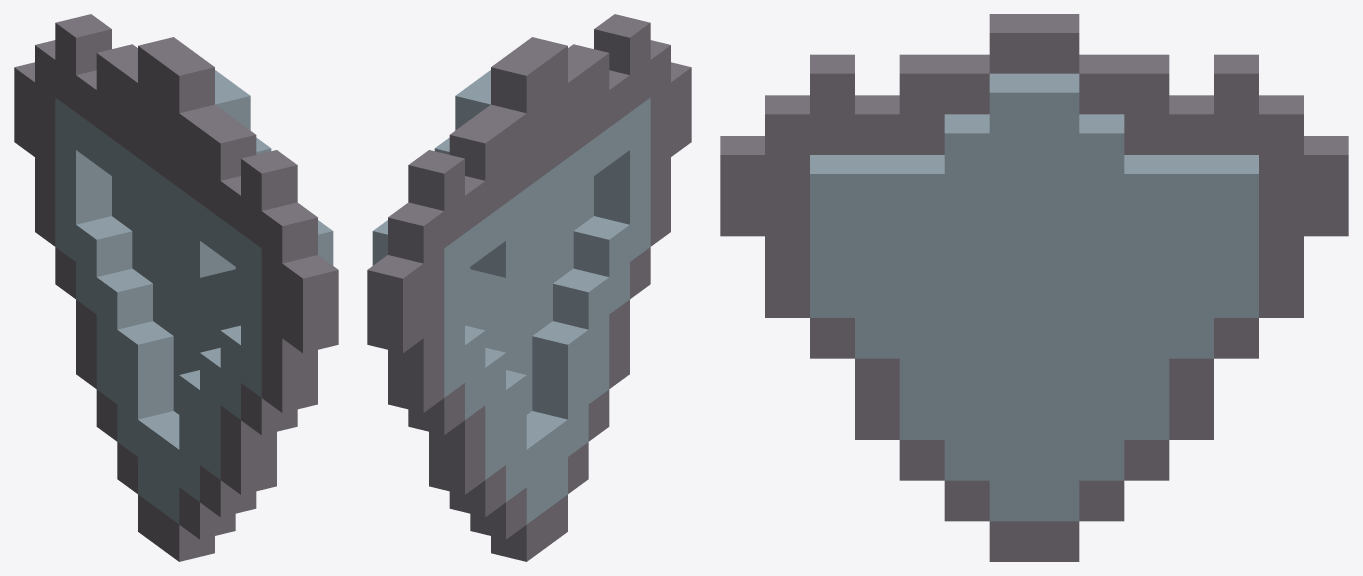
Rendered from BuffShield.glb.
3 renders of one model, left to right at view 1: azimuth 30°, elevation 25°; view 2: azimuth 150°, elevation 25°; view 3: azimuth 270°, elevation 25°, orthographic. The views are drawn at different scales.
Parts seen in each view (by area): view 1: Shield; view 2: Shield; view 3: Shield.
Part boxes in pixels (x1,y1,x2,y2): Shield: (14, 14, 338, 561); Shield: (367, 14, 691, 561); Shield: (720, 14, 1348, 561).
Size of the model in its own units: 0.19 by 1.24 by 1.33.
Materials: 1 (1 with a texture image).
